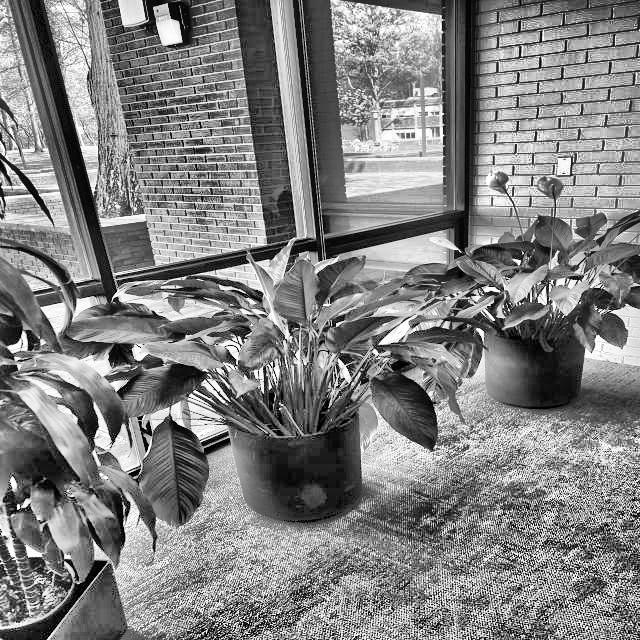plants: (134, 235, 500, 422), (0, 173, 154, 572), (453, 195, 640, 325)
